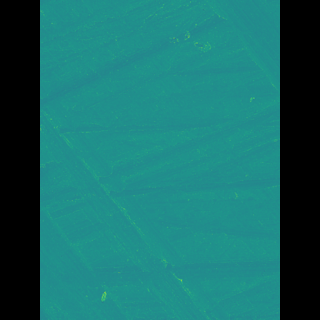Loch: (70, 75, 211, 320), (196, 0, 250, 94)
